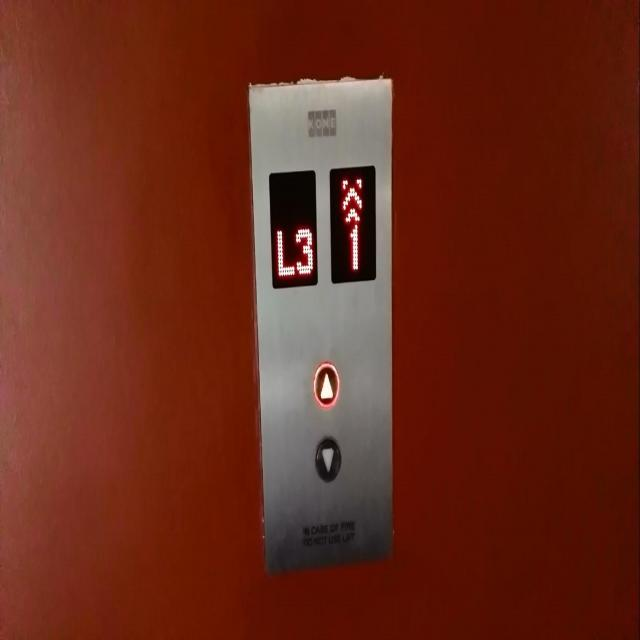down: (312, 433, 343, 485)
led: (267, 166, 320, 292), (327, 162, 378, 288)
up: (312, 360, 339, 412)
